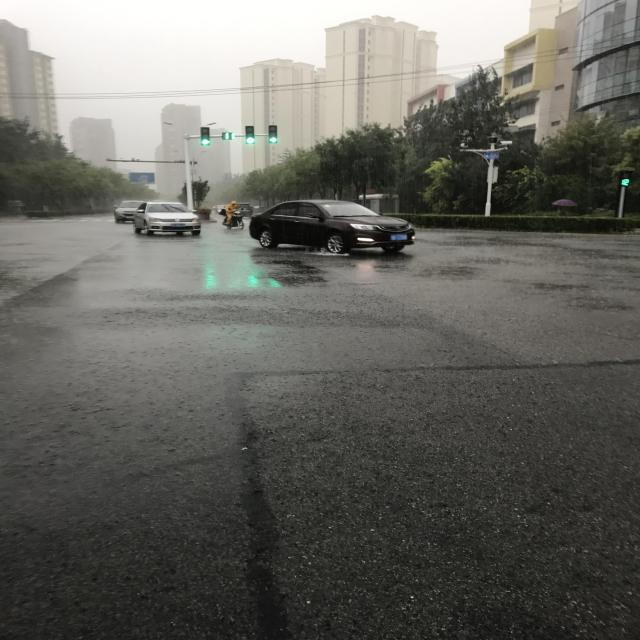car: (200, 224, 254, 391), (198, 439, 235, 507), (199, 490, 223, 528)
